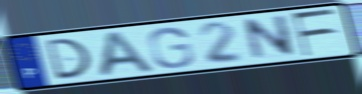2: (197, 20, 246, 65)
A: (96, 29, 158, 80)
D: (42, 36, 93, 82)
F: (290, 7, 338, 59)
G: (146, 26, 196, 70)
N: (241, 13, 298, 62)
